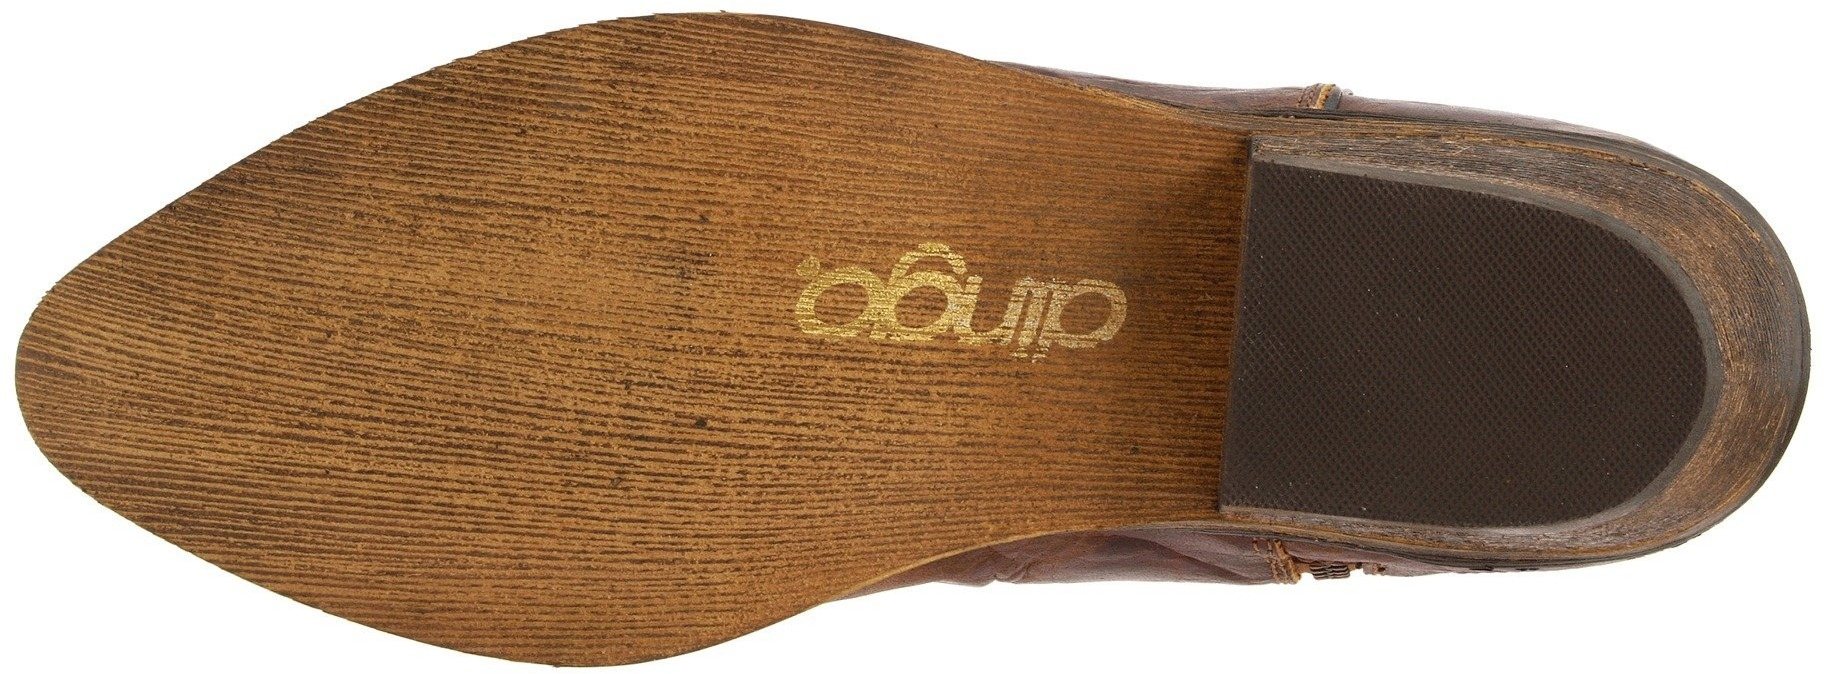exclude: (748, 6, 1255, 632)
